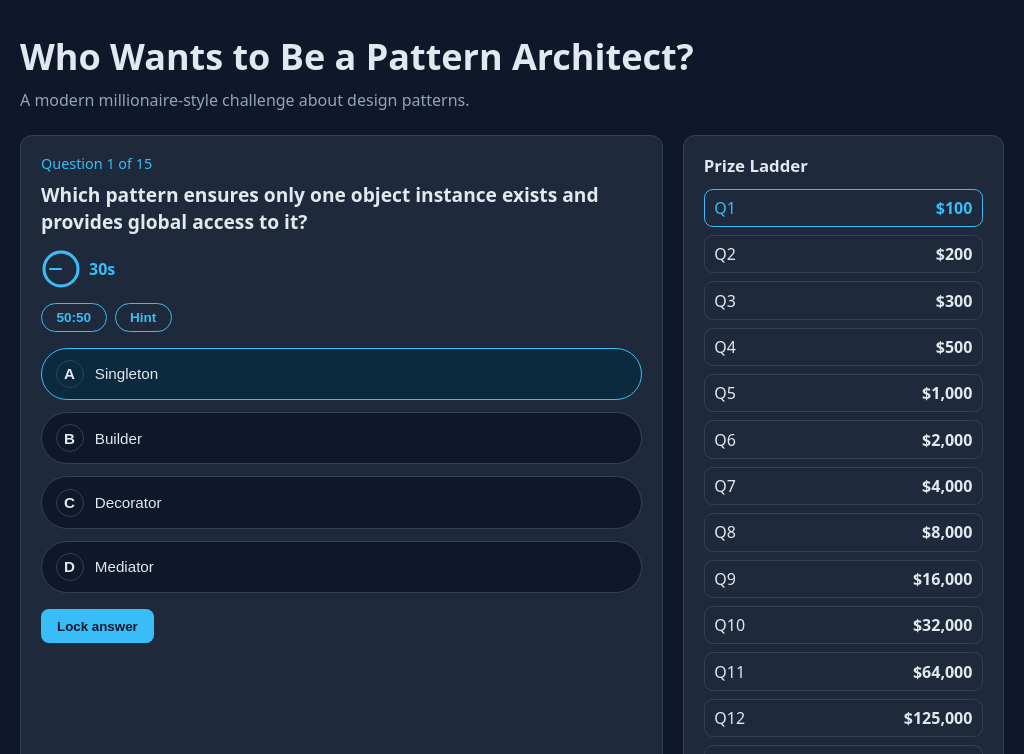
QuizPage › advances to the next question when the correct answer is locked
Click the button "Lock answer": {"x": 97, "y": 626} [41,609,154,643]
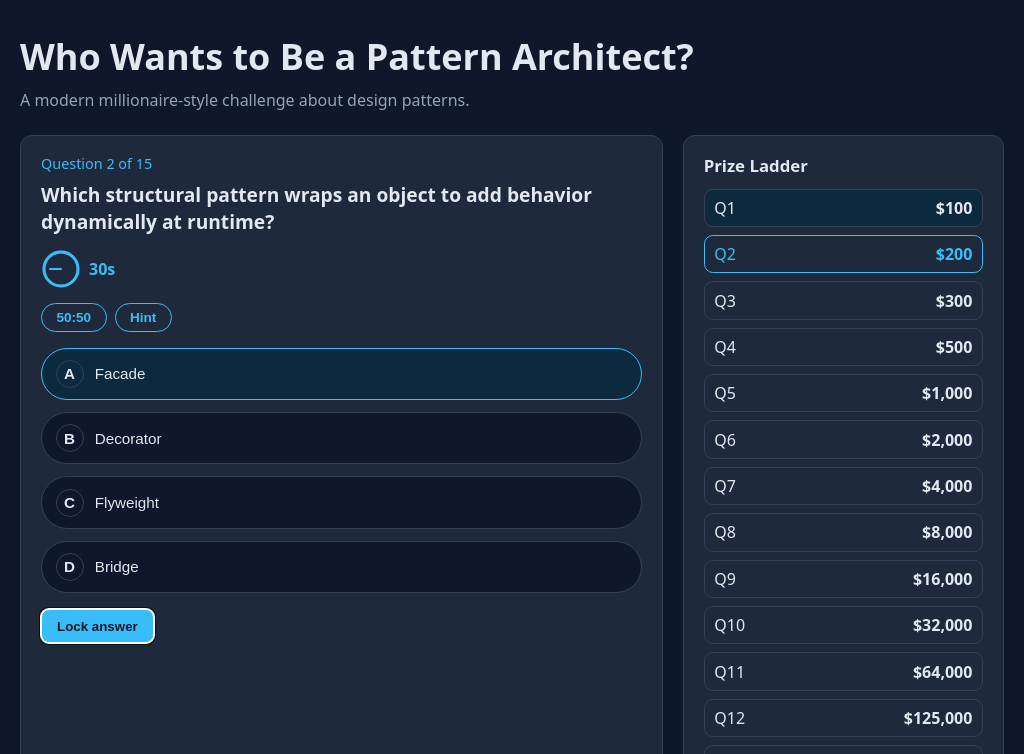
Expected: the text "Question 2 of 15" is shown, [41,154,152,173]
Expected: the button "B Decorator" is shown, [41,412,642,464]
